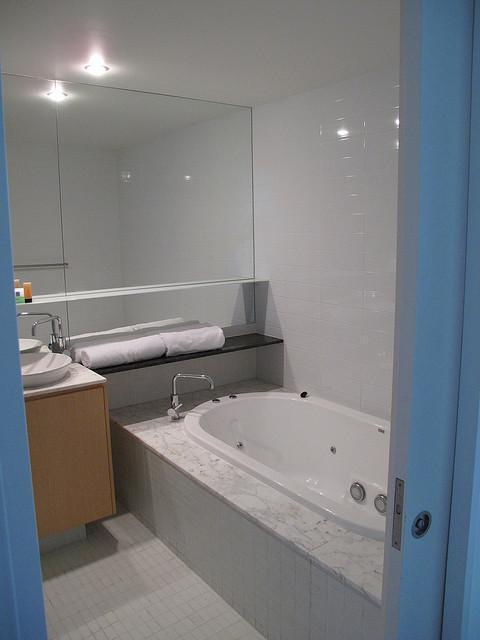Lavamanos: (0, 308, 70, 403)
